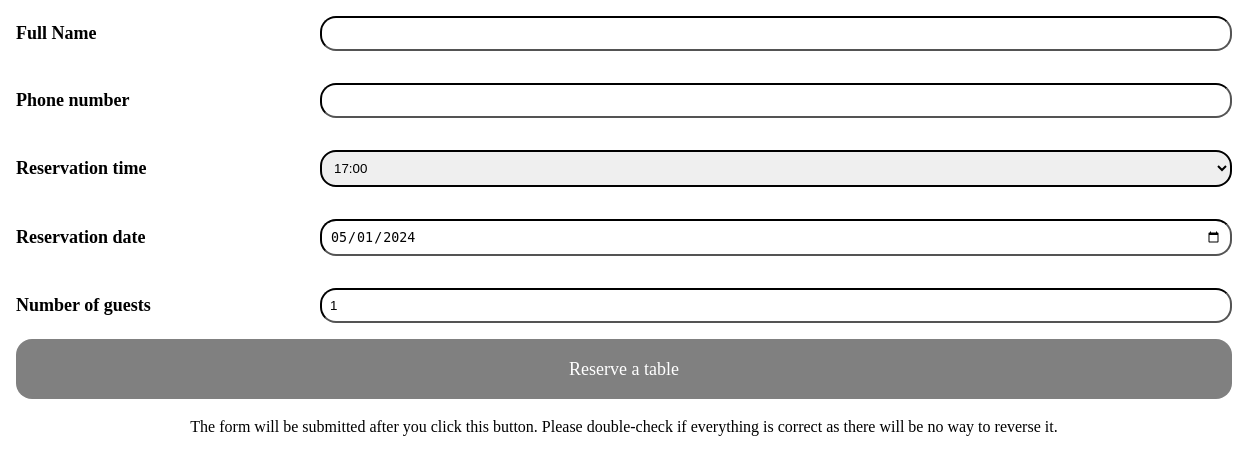
Test: submit button is enabled if fields are field with valid data
The image size is (1249, 453).
Type "987654321" into the field labelled "Phone number" at (776,100), box [320, 83, 1232, 118]
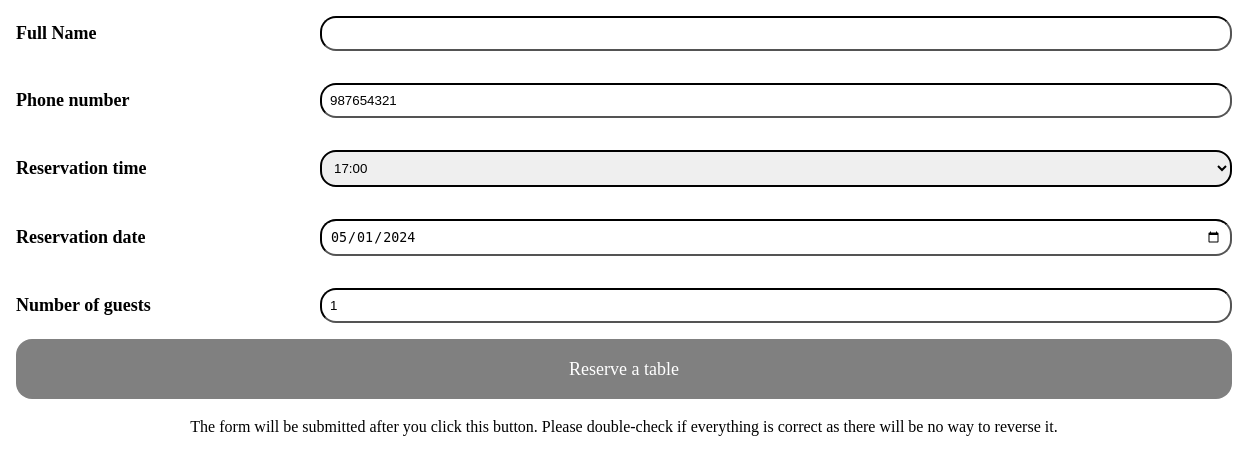
Type "John Black" into the field labelled "Full Name" at (776,34), box [320, 16, 1232, 51]
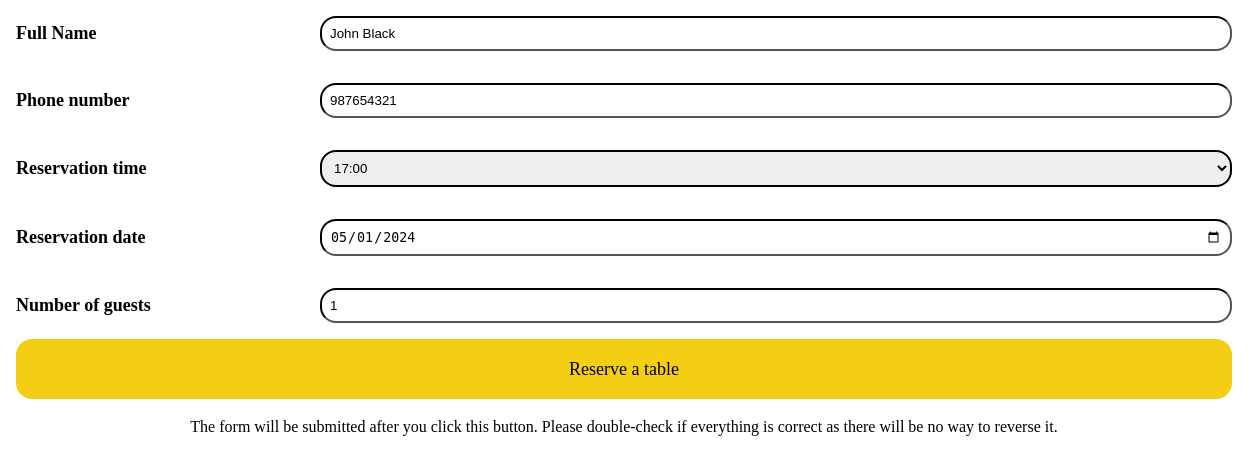
Expected: the button "Reserve a table" is enabled, [16, 339, 1232, 399]
